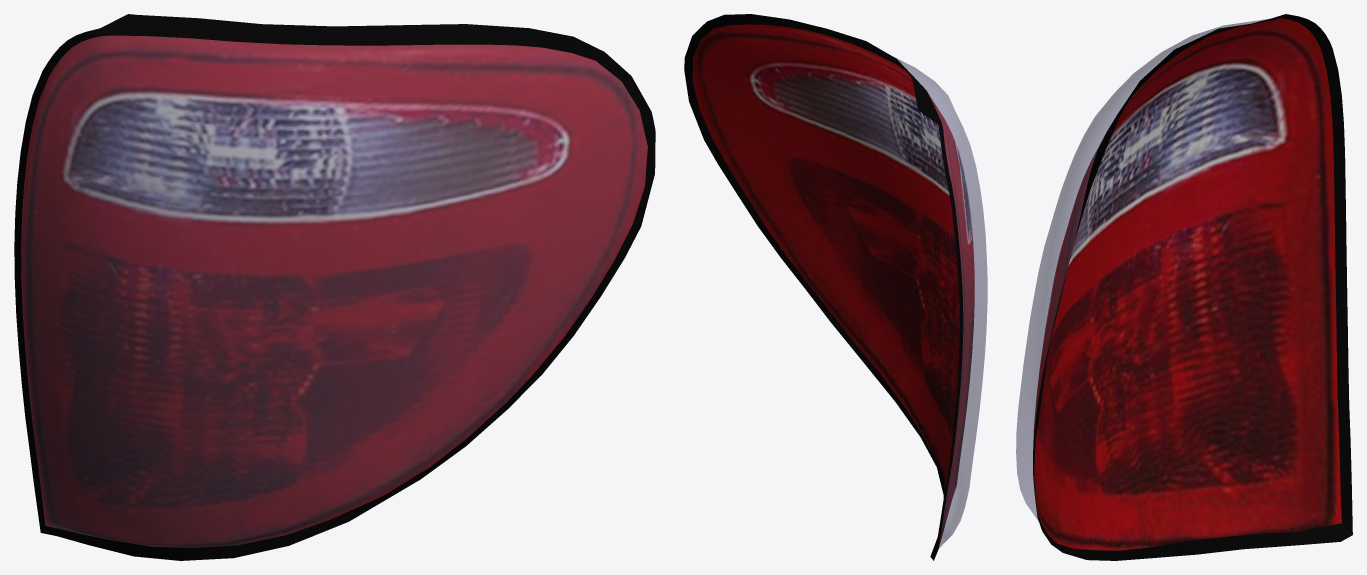
3 renders of one model, left to right at view 1: azimuth 30°, elevation 25°; view 2: azimuth 150°, elevation 25°; view 3: azimuth 270°, elevation 25°, orthographic. The views are drawn at different scales.
Visible parts, largest first — view 1: N664_9A_541C_R_N664_9A_541C_R_2_N, N664_9A_541C_R_1_DTaSI_N664_9A_541C_R, N664_9A_541C_R_N664_9A_541C_R_3_D; view 2: N664_9A_541C_R_N664_9A_541C_R_2_N, N664_9A_541C_R_1_DTaSI_N664_9A_541C_R, N664_9A_541C_R_N664_9A_541C_R_3_D; view 3: N664_9A_541C_R_N664_9A_541C_R_2_N, N664_9A_541C_R_N664_9A_541C_R_3_D, N664_9A_541C_R_1_DTaSI_N664_9A_541C_R.
Boxes of the visible parts, left/top/right/bottom form: N664_9A_541C_R_N664_9A_541C_R_2_N: left=21, top=35, right=647, bottom=547; N664_9A_541C_R_1_DTaSI_N664_9A_541C_R: left=21, top=35, right=647, bottom=547; N664_9A_541C_R_N664_9A_541C_R_3_D: left=14, top=14, right=655, bottom=560; N664_9A_541C_R_N664_9A_541C_R_2_N: left=692, top=24, right=974, bottom=546; N664_9A_541C_R_1_DTaSI_N664_9A_541C_R: left=894, top=57, right=987, bottom=548; N664_9A_541C_R_N664_9A_541C_R_3_D: left=684, top=14, right=963, bottom=560; N664_9A_541C_R_N664_9A_541C_R_2_N: left=1033, top=18, right=1341, bottom=550; N664_9A_541C_R_N664_9A_541C_R_3_D: left=1033, top=14, right=1352, bottom=560; N664_9A_541C_R_1_DTaSI_N664_9A_541C_R: left=1016, top=19, right=1267, bottom=520.
Bounding box in the file's own units: 32.04 × 33.08 × 18.21.
